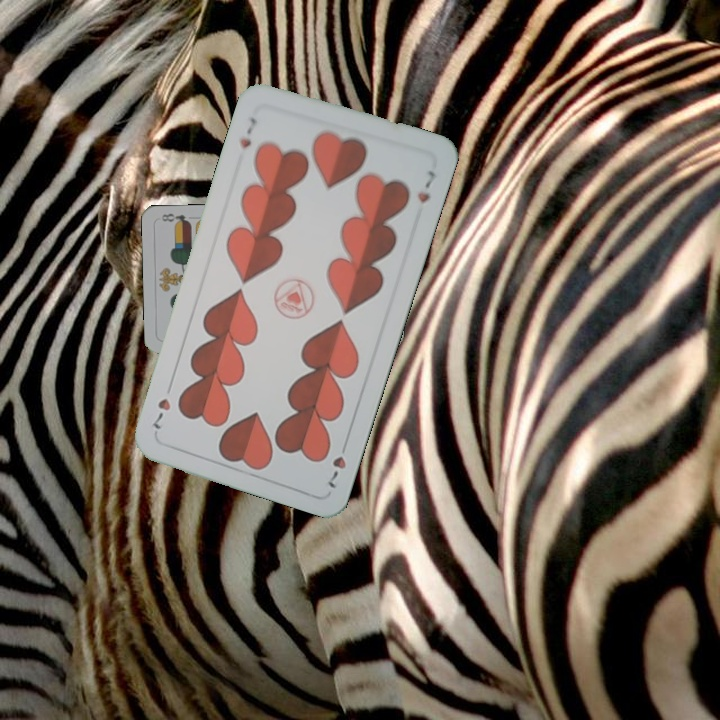H7: (323, 435, 352, 491), (235, 113, 261, 152)
